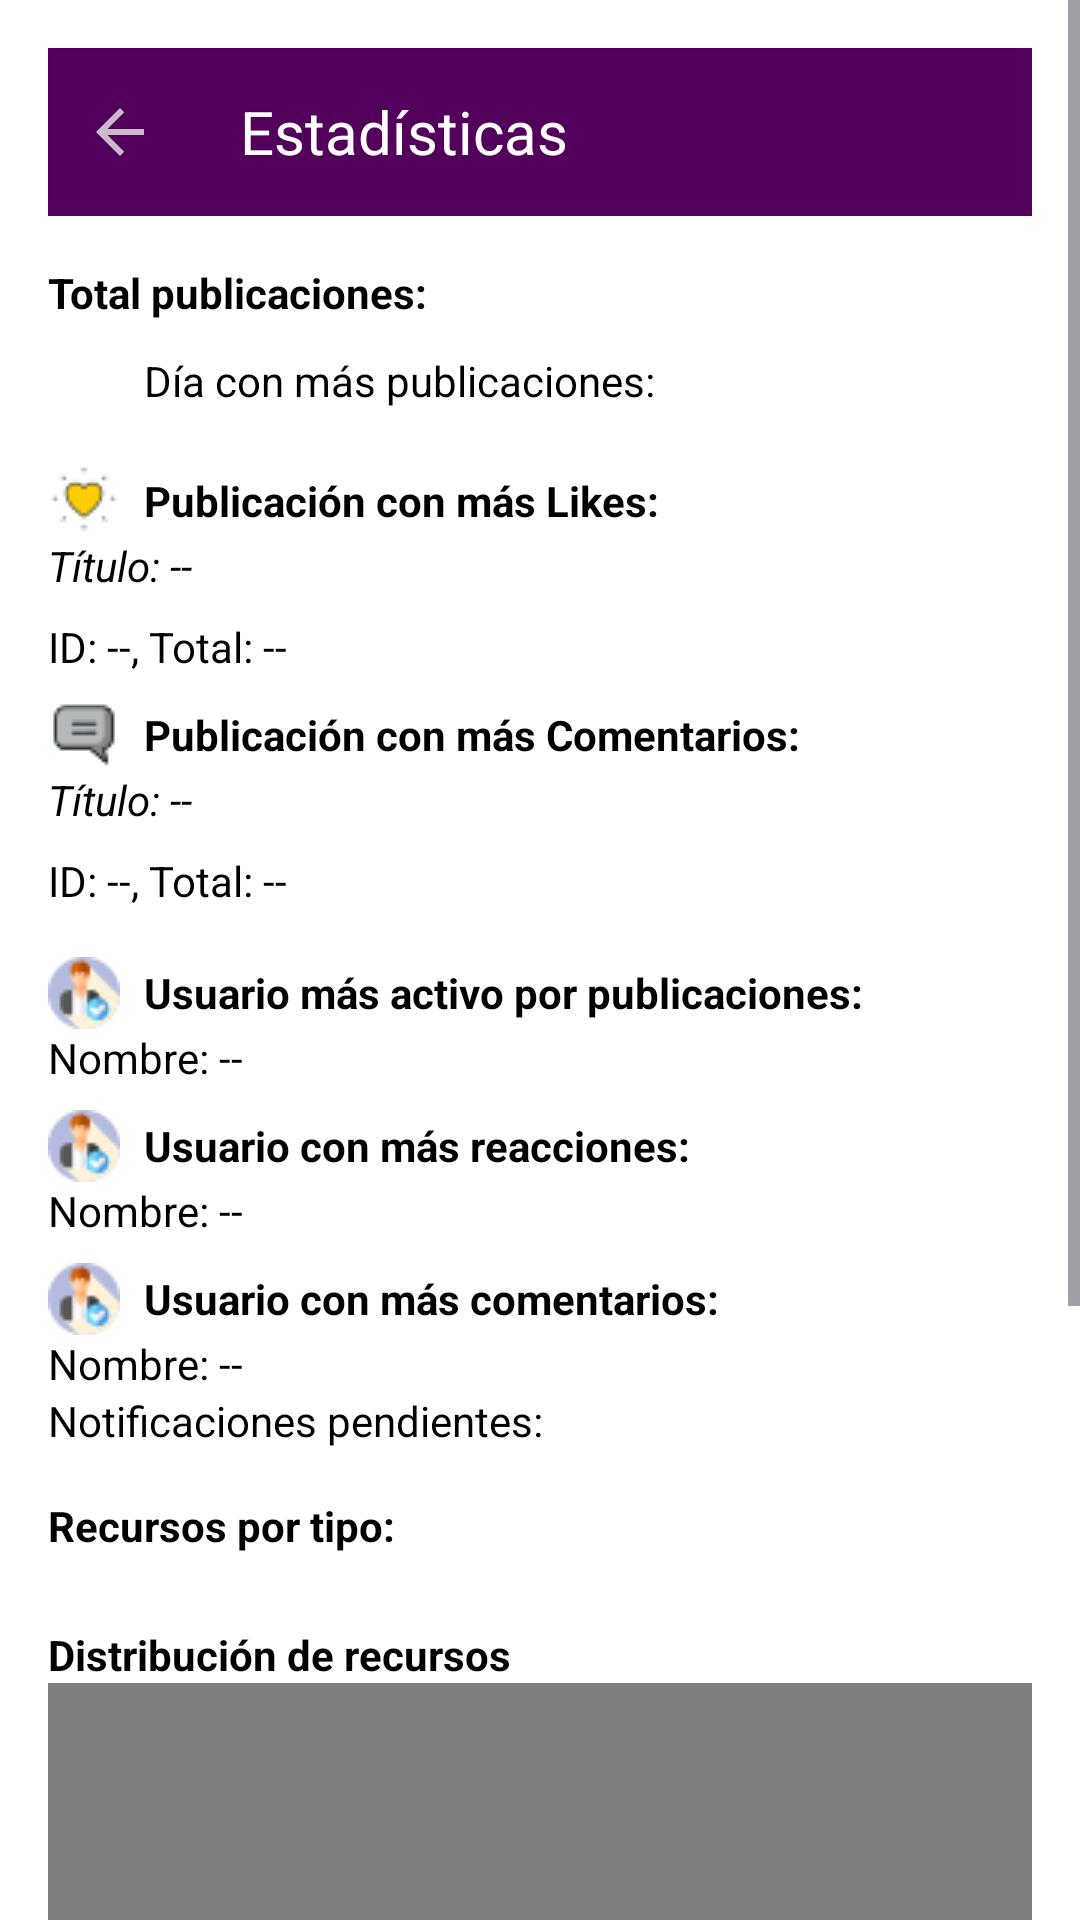

Icon click points for this 1080*1920 phone screenshot, format [x,y]:
Regresar: [120,132]
Ícono de comentario: [84,735]
Ícono de likes: [84,498]
Ícono de usuario: [84,993], [84,1146], [84,1299]
